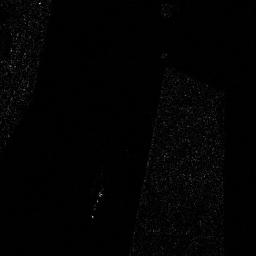ship: (91, 189, 104, 218)
